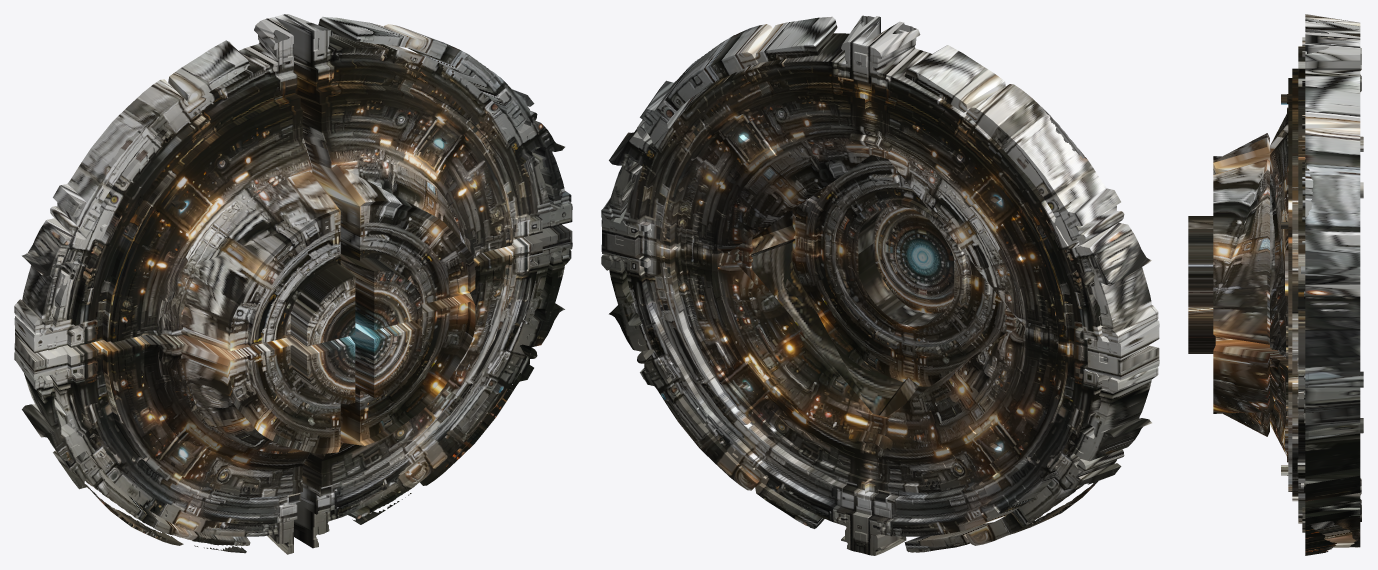
The model's file is Portal3.fbx.
3 views of the same model, side by side, from view 1: azimuth 30°, elevation 25°; view 2: azimuth 150°, elevation 25°; view 3: azimuth 270°, elevation 25° (orthographic). The views are drawn at different scales.
Parts seen in each view (by area): view 1: Portal.002; view 2: Portal.002; view 3: Portal.002.
Boxes of the visible parts, <box> form: Portal.002: <box>14,14,572,554</box>; Portal.002: <box>601,15,1159,555</box>; Portal.002: <box>1188,14,1363,555</box>.
Bounding box in the file's own units: 757 × 695 × 224.
1 material, 1 textured.
